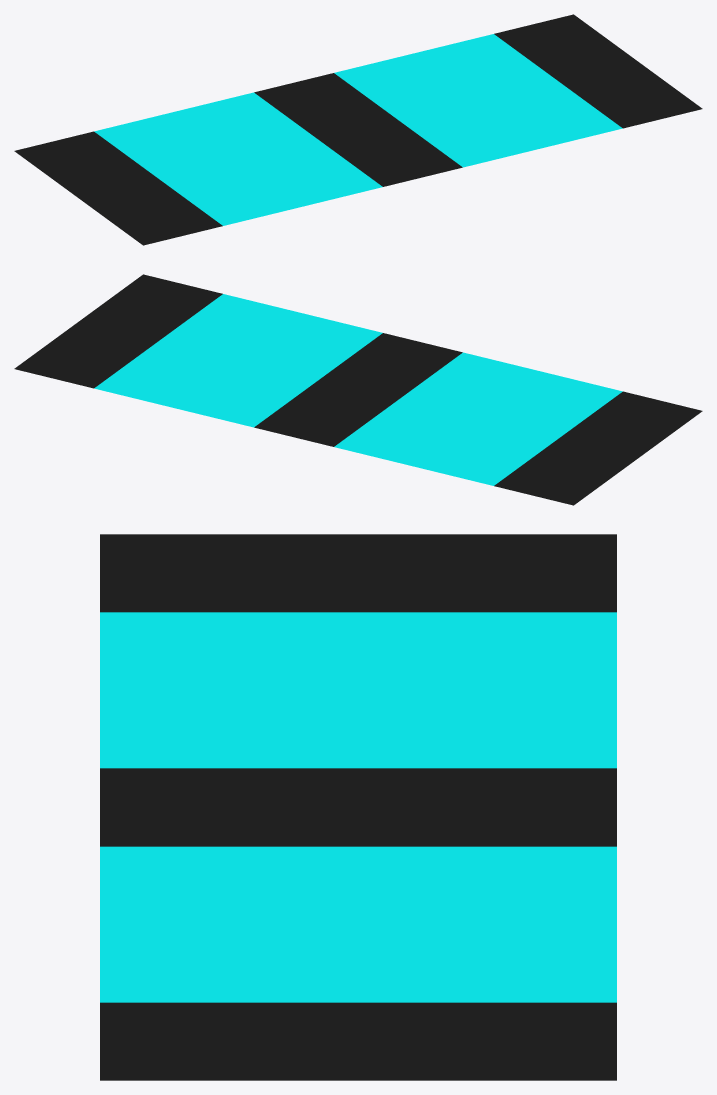
The model's file is RaceTrack_Straight_2m 1.fbx.
3 renders of one model, top to bottom at view 1: azimuth 30°, elevation 25°; view 2: azimuth 150°, elevation 25°; view 3: azimuth 270°, elevation 25°, orthographic. The views are drawn at different scales.
Parts seen in each view (by area): view 1: Straight_2m; view 2: Straight_2m; view 3: Straight_2m.
Part boxes in pixels (x1,y1,x2,y2): Straight_2m: (14,14,702,245); Straight_2m: (14,274,702,505); Straight_2m: (100,534,616,1080).
Size of the model in its own units: 5 by 1.75e-07 by 2.
